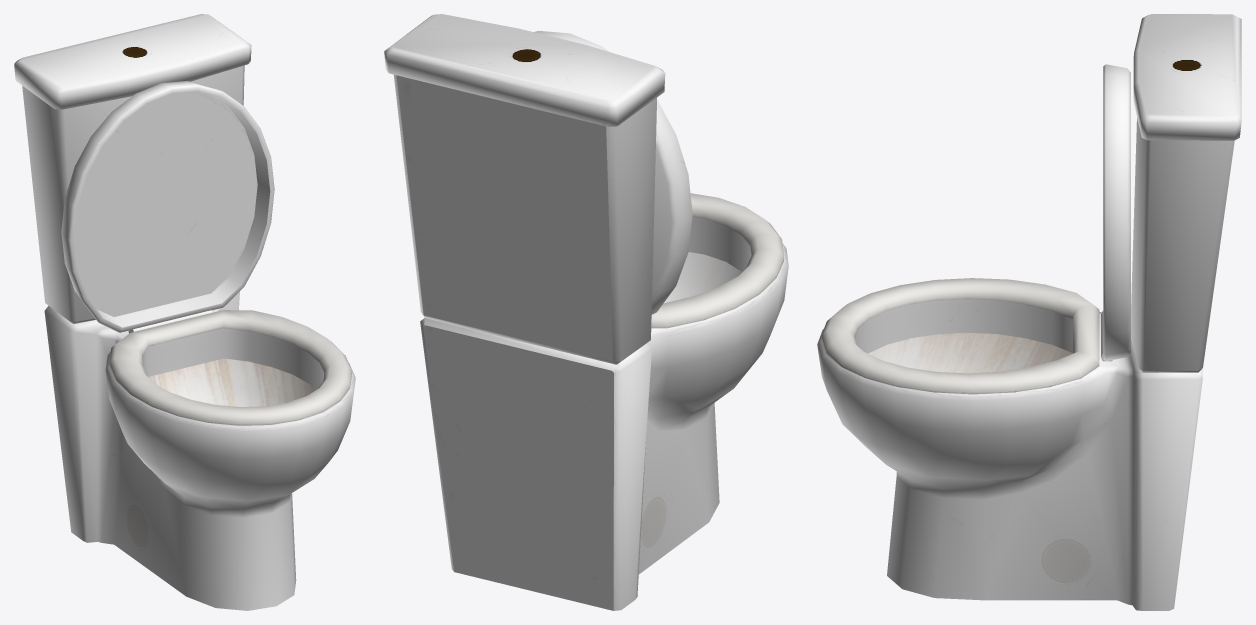
The model's file is Toilet.FBX.
The picture shows the model from 3 angles, left to right: view 1: azimuth 30°, elevation 25°; view 2: azimuth 150°, elevation 25°; view 3: azimuth 270°, elevation 25°; orthographic projection. The views are drawn at different scales.
Visible parts, largest first — view 1: Toilet; view 2: Toilet; view 3: Toilet.
Boxes of the visible parts, bbox=[...] form: Toilet: bbox=[14, 14, 355, 610]; Toilet: bbox=[384, 14, 788, 610]; Toilet: bbox=[817, 14, 1241, 610].
Bounding box in the file's own units: 40.97 × 86.19 × 65.42.
